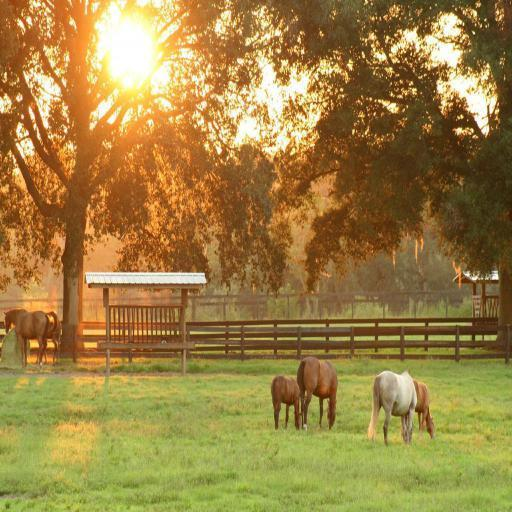horse: (368, 370, 416, 446), (2, 308, 60, 366), (294, 358, 338, 432), (399, 376, 435, 442), (270, 374, 304, 431)
